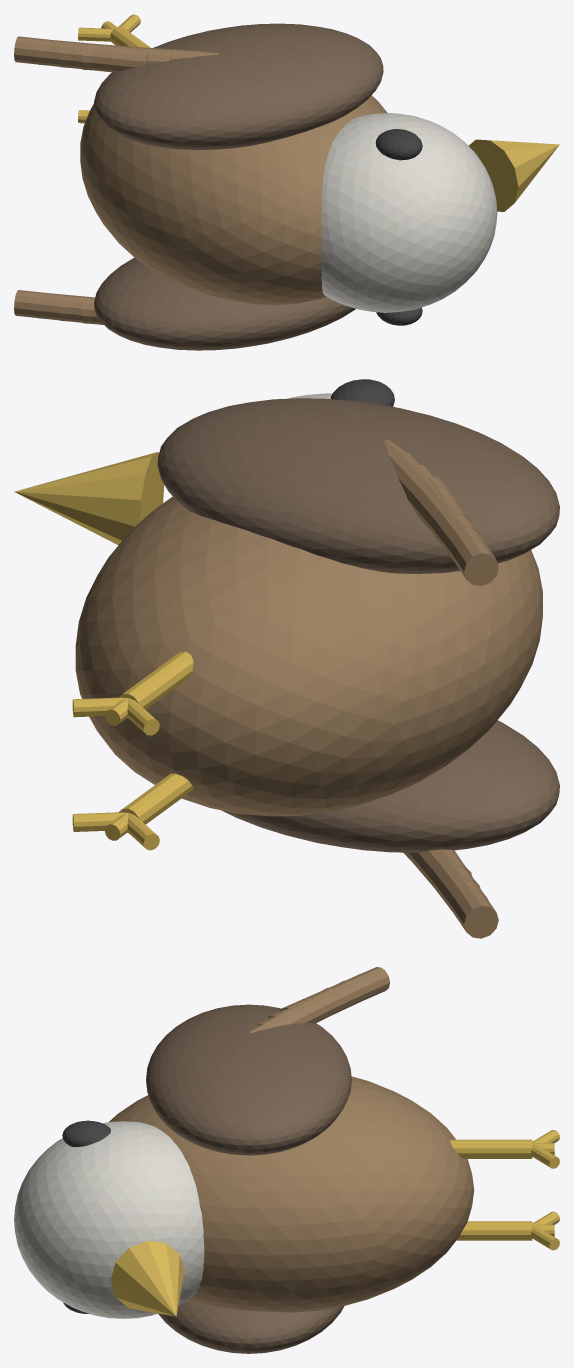
Rendered from eagle.glb.
3 renders of one model, top to bottom at view 1: azimuth 30°, elevation 25°; view 2: azimuth 150°, elevation 25°; view 3: azimuth 270°, elevation 25°, orthographic. The views are drawn at different scales.
Parts seen in each view (by area): view 1: world; view 2: world; view 3: world.
Part boxes in pixels (x1=…): world: x1=14, y1=14, x2=559, y2=350; world: x1=14, y1=379, x2=559, y2=938; world: x1=14, y1=967, x2=559, y2=1353.
Bounding box in the file's own units: 1.59 × 0.94 × 1.7.
